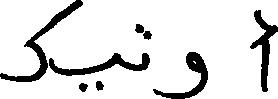X: (0, 0, 81, 95), (154, 47, 207, 98), (251, 5, 277, 96), (141, 20, 149, 75), (111, 48, 121, 71)
